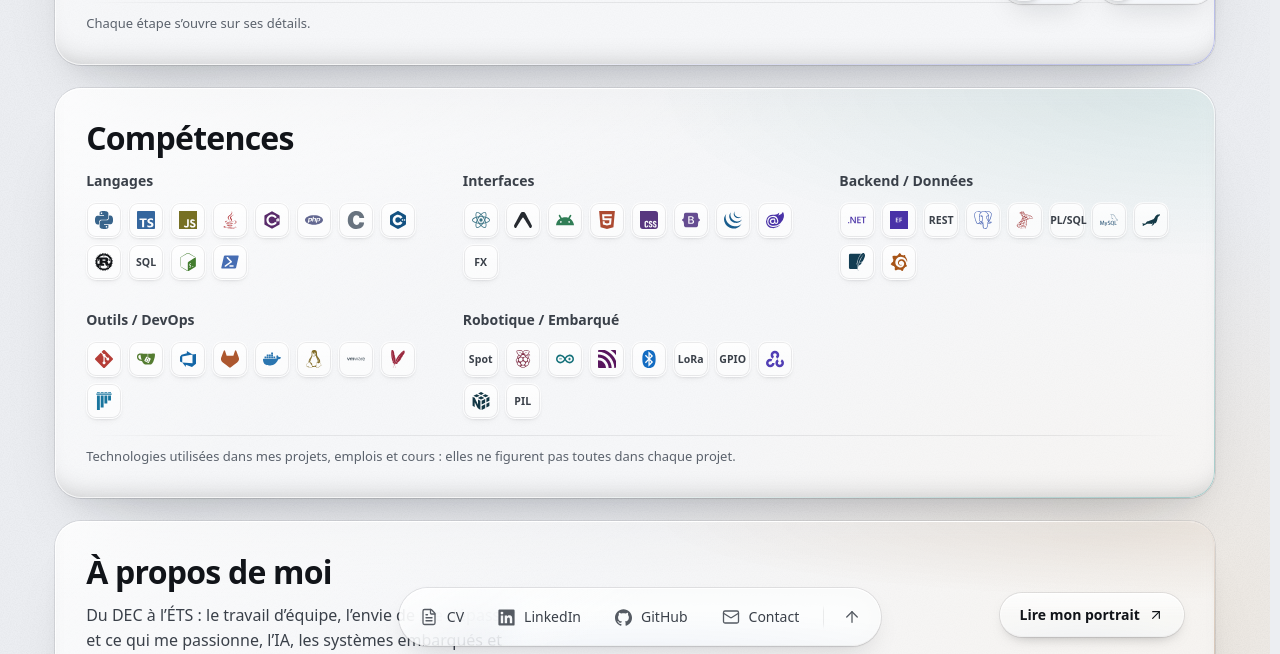
Test: logos des compétences › affichent leur nom au toucher
(page scrolled)
Click the button named "Rust": (104, 262) [86, 244, 122, 280]
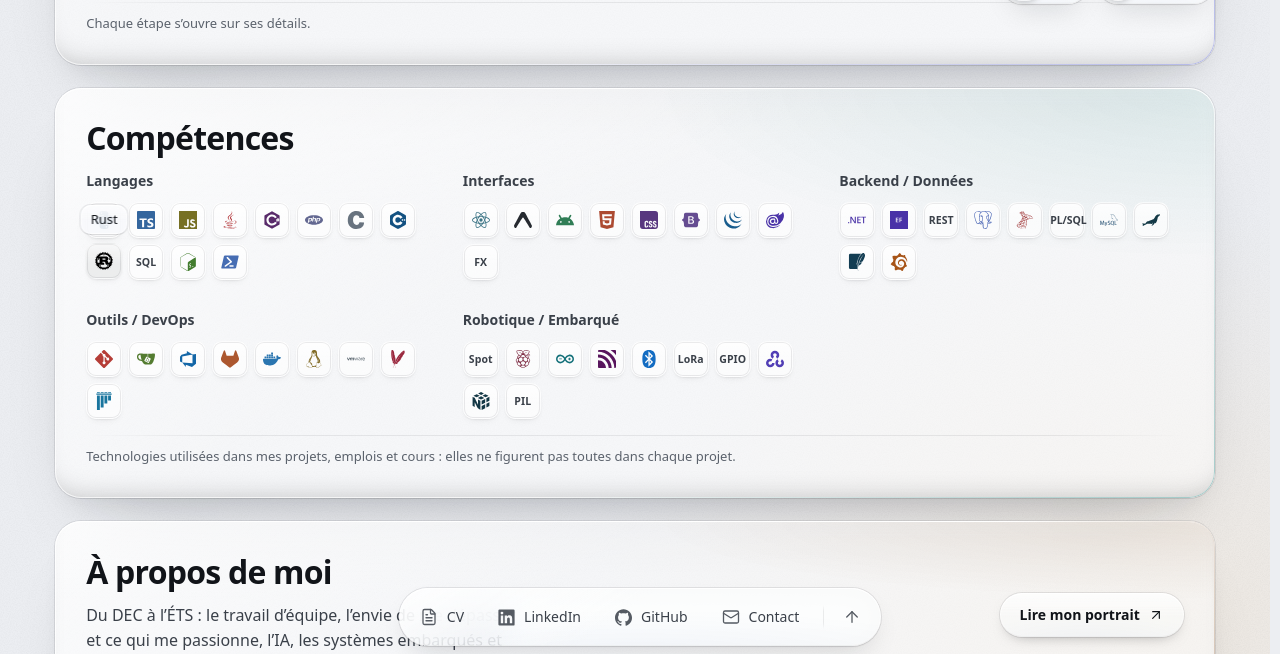
Check: the text with class "tip" reads "Rust", box [91, 210, 118, 228]
